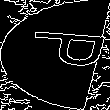P_E: (6, 33, 104, 77)
